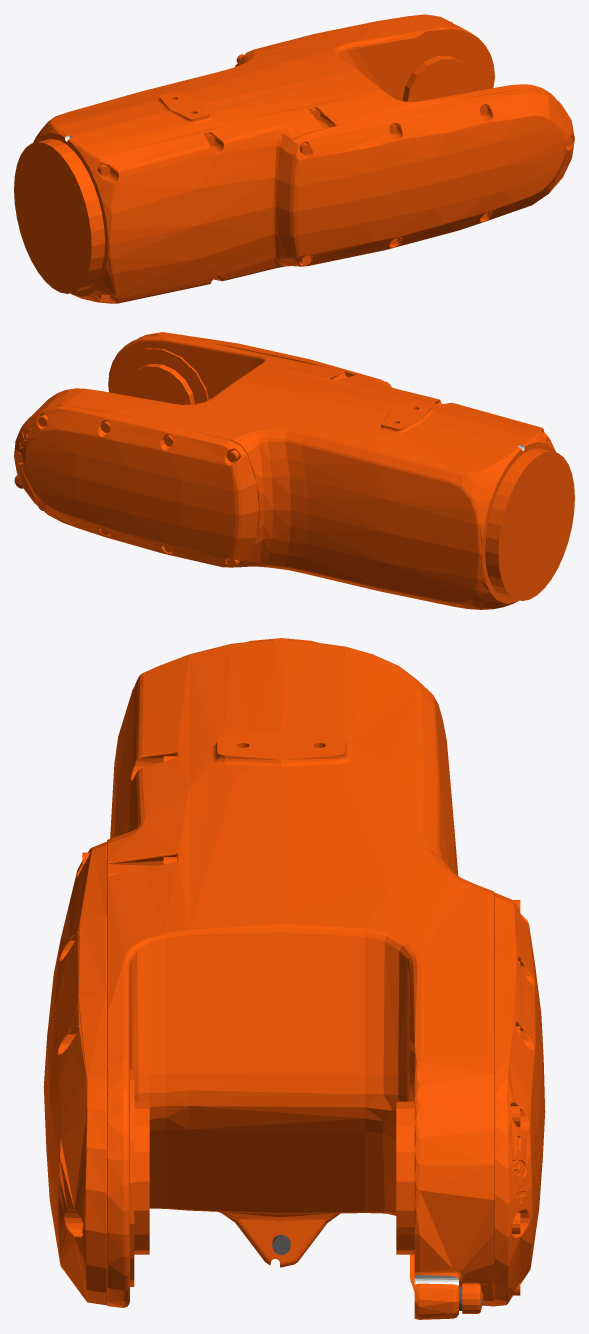
The picture shows the model from 3 angles, top to bottom: view 1: azimuth 30°, elevation 25°; view 2: azimuth 150°, elevation 25°; view 3: azimuth 270°, elevation 25°; orthographic projection. The views are drawn at different scales.
Parts seen in each view (by area): view 1: link_4; view 2: link_4; view 3: link_4.
Boxes of the visible parts, x1,y1,x2,y2 form: link_4: (14, 14, 574, 303); link_4: (14, 332, 574, 609); link_4: (43, 638, 545, 1319).
Size of the model in its own units: 0.3585 by 0.1637 by 0.1304.
